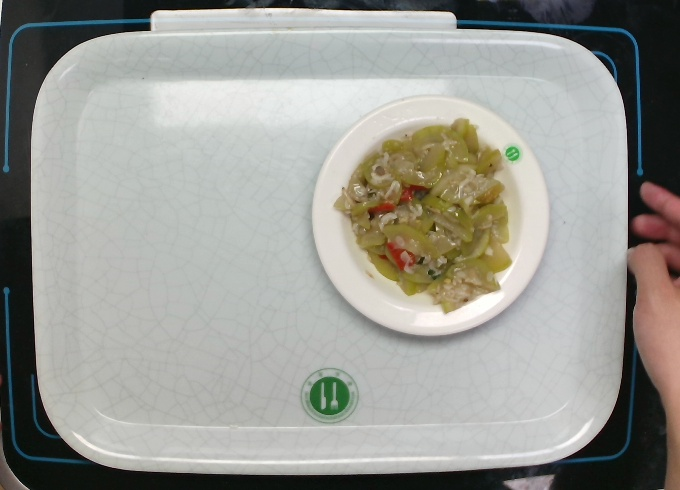WCQzf-Kuan_Bian_Yuan_Die: (309, 91, 558, 337)
